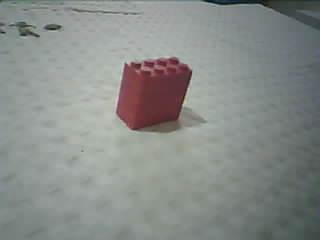lego: (115, 55, 192, 131)
